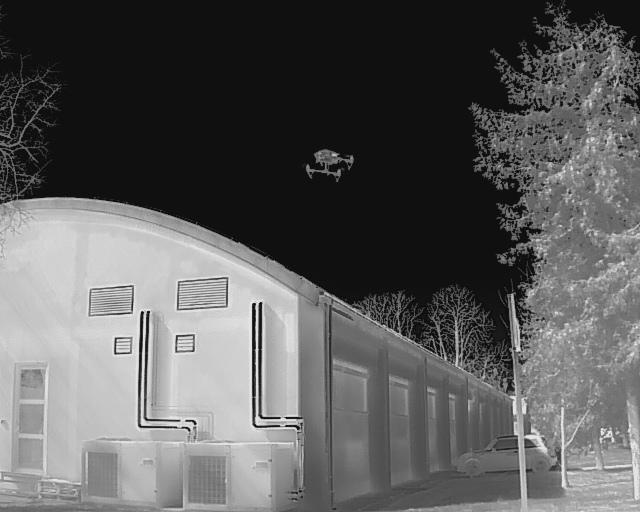drone: (295, 142, 359, 190)
